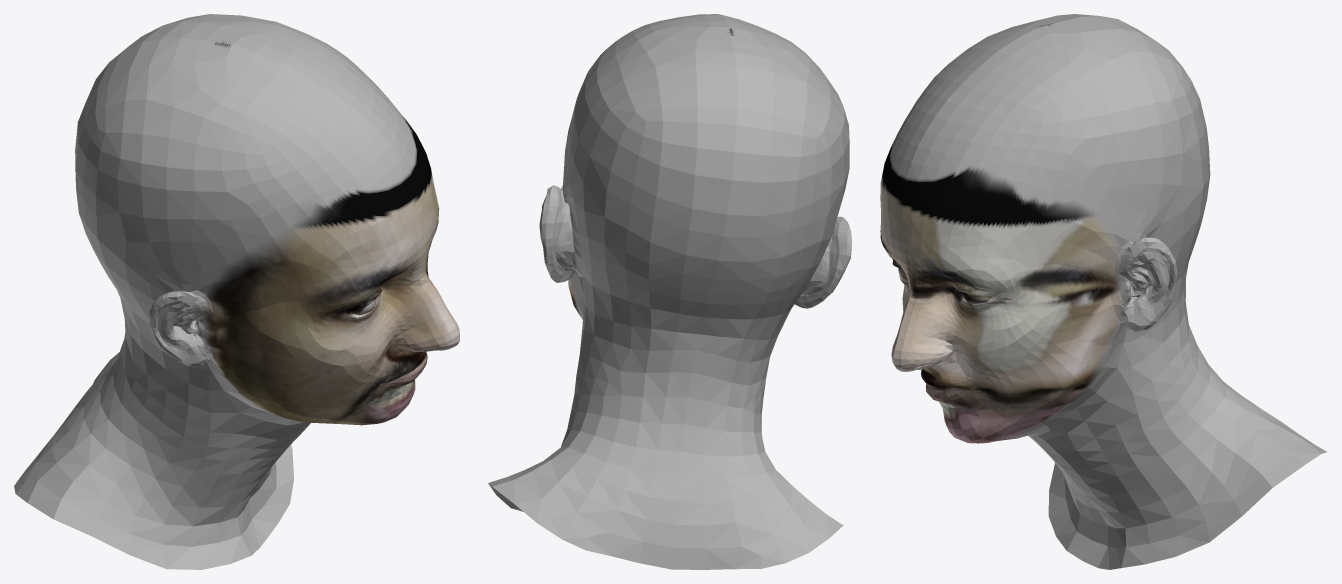
The model's file is ezgif-frame-054.obj.
3 views of the same model, side by side, from view 1: azimuth 30°, elevation 25°; view 2: azimuth 150°, elevation 25°; view 3: azimuth 270°, elevation 25° (orthographic). The views are drawn at different scales.
Bounding box in the file's own units: 0.2054 × 0.3209 × 0.2544.
1 material, 1 textured.
